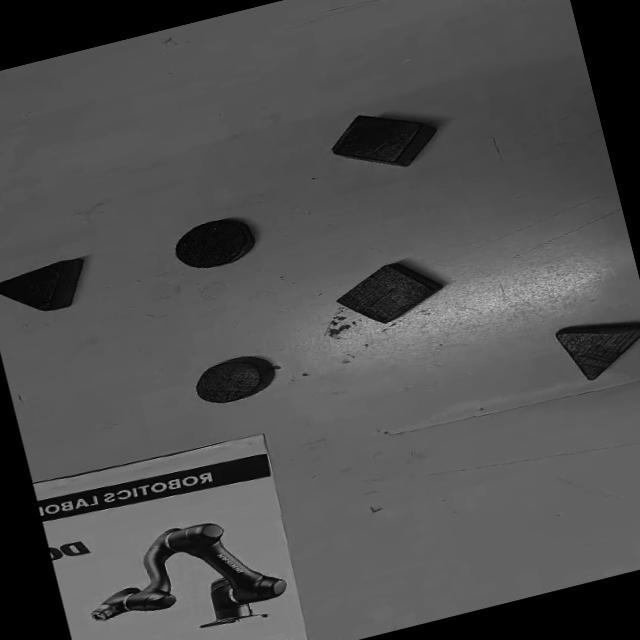bcircle: (167, 211, 259, 277)
bcube: (330, 252, 448, 334)
btriangle: (0, 253, 95, 324)
rcircle: (188, 350, 279, 410)
rcube: (321, 97, 442, 184)
rtriangle: (552, 306, 640, 387)
